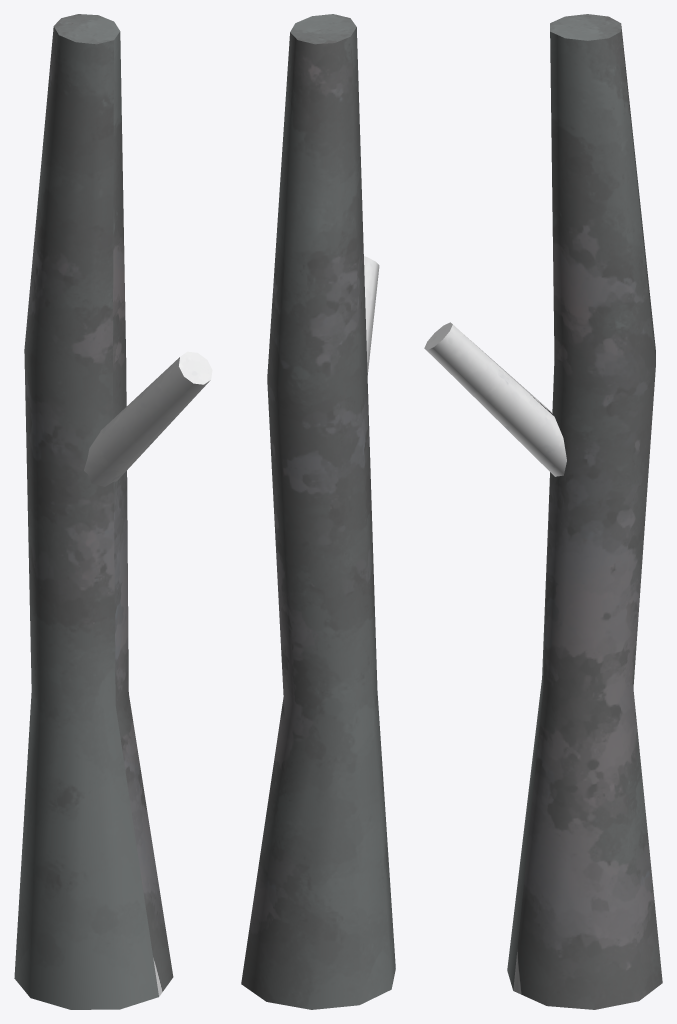
Rendered from SM_Tree_Trunk_01.fbx.
3 renders of one model, left to right at view 1: azimuth 30°, elevation 25°; view 2: azimuth 150°, elevation 25°; view 3: azimuth 270°, elevation 25°, orthographic.
Visible parts, largest first — view 1: SM_Tree_Trunk_01_LOD0; view 2: SM_Tree_Trunk_01_LOD0; view 3: SM_Tree_Trunk_01_LOD0.
Boxes of the visible parts, bbox=[...] form: SM_Tree_Trunk_01_LOD0: bbox=[14, 14, 212, 1009]; SM_Tree_Trunk_01_LOD0: bbox=[241, 14, 395, 1009]; SM_Tree_Trunk_01_LOD0: bbox=[424, 14, 662, 1009].
Size of the model in its own units: 32.65 by 217 by 49.53.
